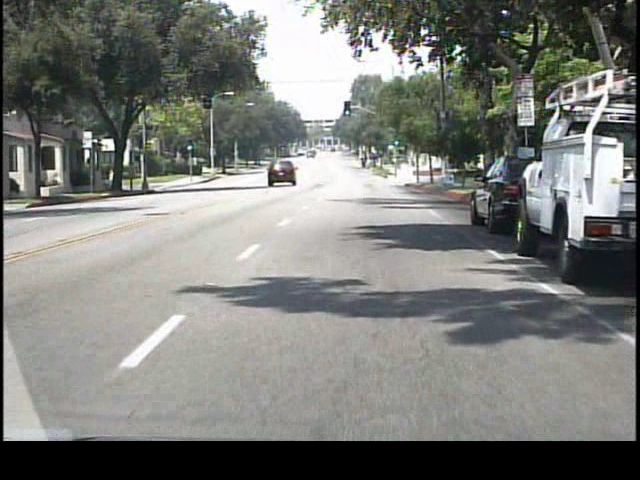person: (110, 166, 120, 195)
